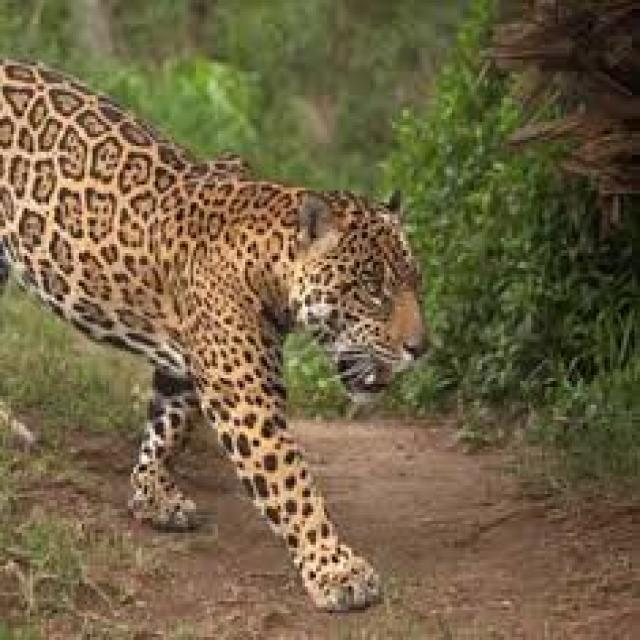Jaguar: (0, 26, 449, 631)
